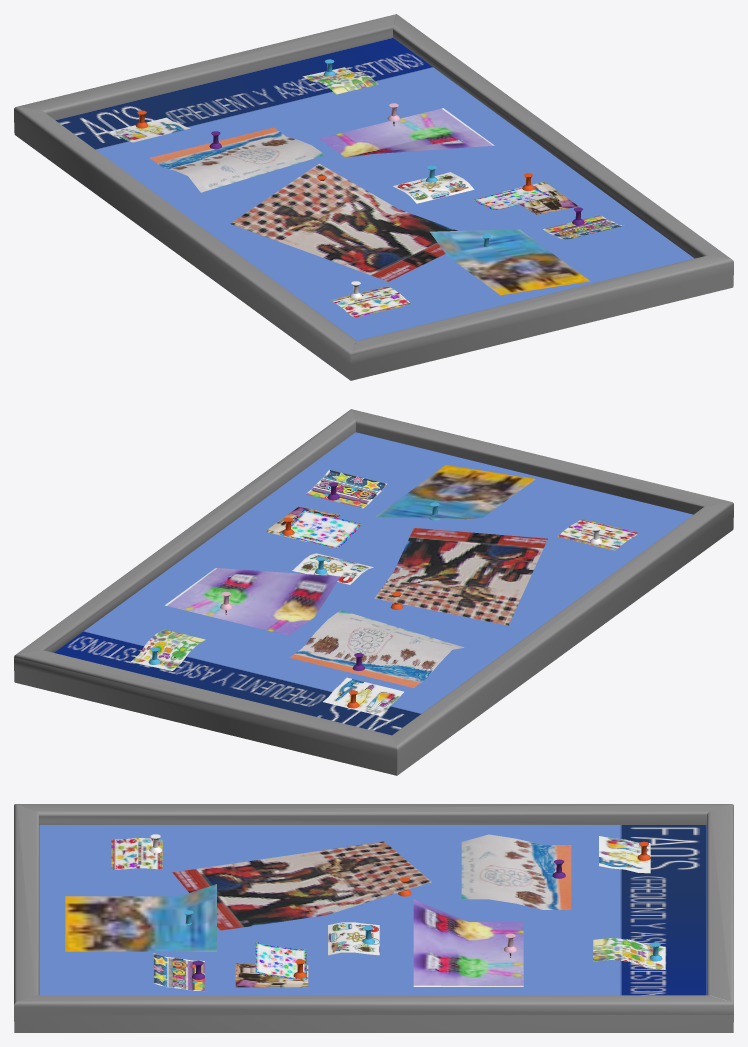
The model's file is Poster04_3.FBX.
3 views of the same model, one above another, from view 1: azimuth 30°, elevation 25°; view 2: azimuth 150°, elevation 25°; view 3: azimuth 270°, elevation 25° (orthographic). The views are drawn at different scales.
Visible parts, largest first — view 1: Poster04_3; view 2: Poster04_3; view 3: Poster04_3.
Boxes of the visible parts, left/top/right/bottom form: Poster04_3: left=14, top=14, right=733, bottom=380; Poster04_3: left=14, top=409, right=733, bottom=775; Poster04_3: left=14, top=804, right=733, bottom=1032.
Size of the model in its own units: 135 by 13.36 by 206.
